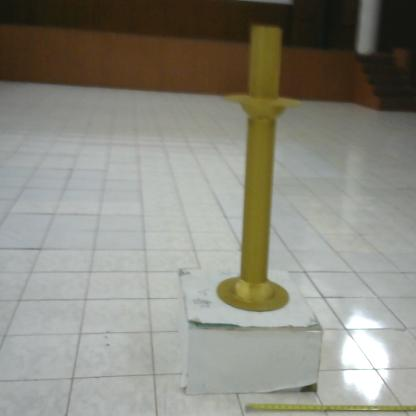pole: (218, 13, 314, 318)
